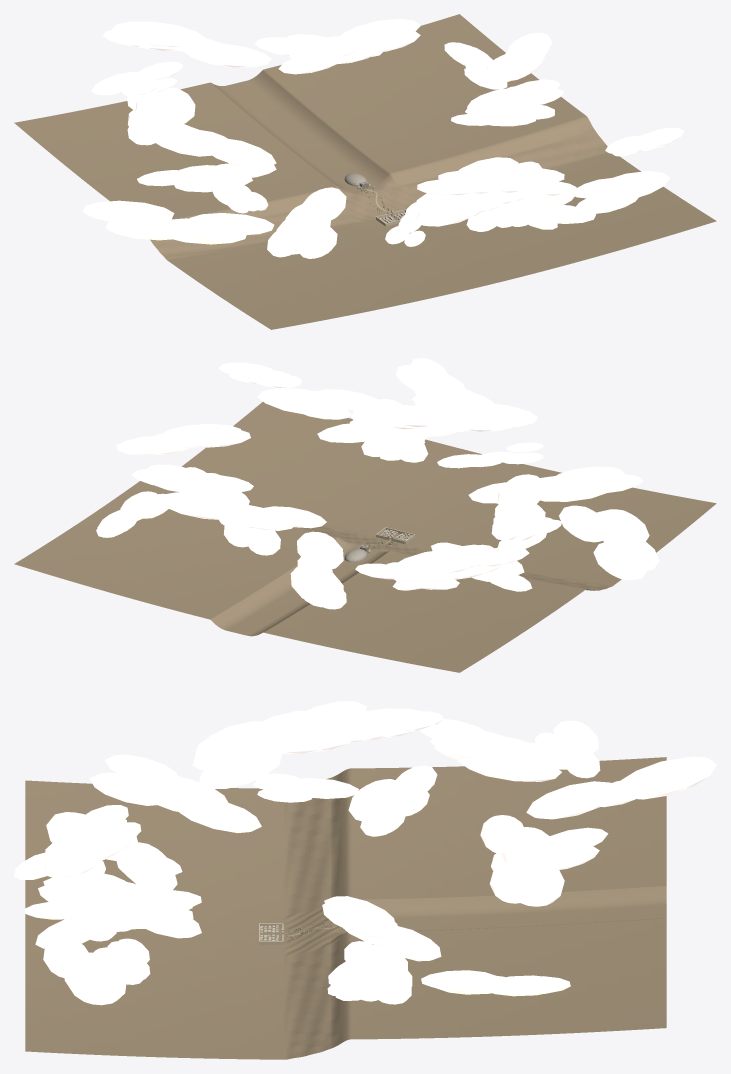
The model's file is tomb.glb.
The picture shows the model from 3 angles, top to bottom: view 1: azimuth 30°, elevation 25°; view 2: azimuth 150°, elevation 25°; view 3: azimuth 270°, elevation 25°; orthographic projection. The views are drawn at different scales.
Parts seen in each view (by area): view 1: Terrain, Cloud.002, Cloud.001, Cloud.015, Cloud, Cloud.011, Cloud.020, Cloud.005, Cloud.022, Cloud.018, Cloud.021, Cloud.023 (+14 smaller); view 2: Terrain, Cloud.002, Cloud.001, Cloud.015, Cloud.005, Cloud, Cloud.011, Cloud.020, Cloud.021, Cloud.022, Cloud.013, Cloud.025 (+12 smaller); view 3: Terrain, Cloud, Cloud.002, Cloud.001, Cloud.015, Cloud.004, Cloud.011, Cloud.025, Cloud.020, Cloud.018, Cloud.021, Cloud.022 (+13 smaller).
Part boxes in pixels (<box>): Terrain: <box>14,14,716,329</box>; Cloud.002: <box>82,200,274,244</box>; Cloud.001: <box>278,18,420,74</box>; Cloud.015: <box>102,21,271,67</box>; Cloud: <box>267,187,346,258</box>; Cloud.011: <box>146,119,276,168</box>; Cloud.020: <box>544,171,670,213</box>; Cloud.005: <box>413,157,518,226</box>; Cloud.022: <box>465,79,563,121</box>; Cloud.018: <box>137,163,276,192</box>; Cloud.021: <box>483,32,552,83</box>; Cloud.023: <box>440,166,576,195</box>; Terrain: <box>14,402,716,672</box>; Cloud.002: <box>559,505,659,579</box>; Cloud.001: <box>157,490,326,530</box>; Cloud.015: <box>290,531,346,609</box>; Cloud.005: <box>361,404,537,431</box>; Cloud: <box>468,466,642,503</box>; Cloud.011: <box>491,474,545,540</box>; Cloud.020: <box>257,388,380,419</box>; Cloud.021: <box>116,423,250,455</box>; Cloud.022: <box>132,464,253,494</box>; Cloud.013: <box>355,562,459,589</box>; Cloud.025: <box>392,544,503,590</box>; Terrain: <box>25,757,666,1059</box>; Cloud: <box>89,754,261,833</box>; Cloud.002: <box>192,701,366,788</box>; Cloud.001: <box>480,815,564,906</box>; Cloud.015: <box>526,756,716,819</box>; Cloud.004: <box>38,878,201,938</box>; Cloud.011: <box>254,708,443,753</box>; Cloud.025: <box>430,733,566,781</box>; Cloud.020: <box>43,919,126,1005</box>; Cloud.018: <box>348,765,437,836</box>; Cloud.021: <box>322,896,441,961</box>; Cloud.022: <box>344,941,412,1004</box>.
Size of the model in its own units: 1377 by 246 by 1315.
